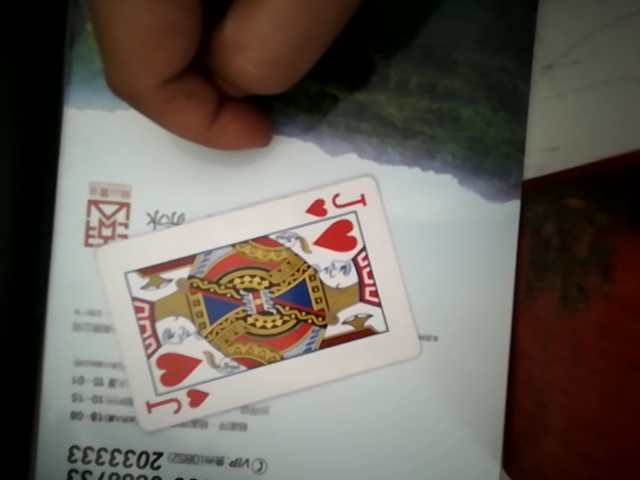hx j: (95, 166, 428, 429)
